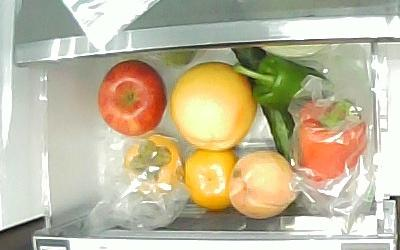apple: (95, 58, 165, 137)
cucumber: (232, 45, 296, 170)
grapefruit: (168, 61, 256, 153)
paprika: (234, 55, 333, 110)
paprika_vinyl: (294, 96, 366, 187)
peach: (229, 150, 295, 219)
persimmon: (182, 148, 236, 211)
persimmon_vinyl: (121, 133, 182, 192)
